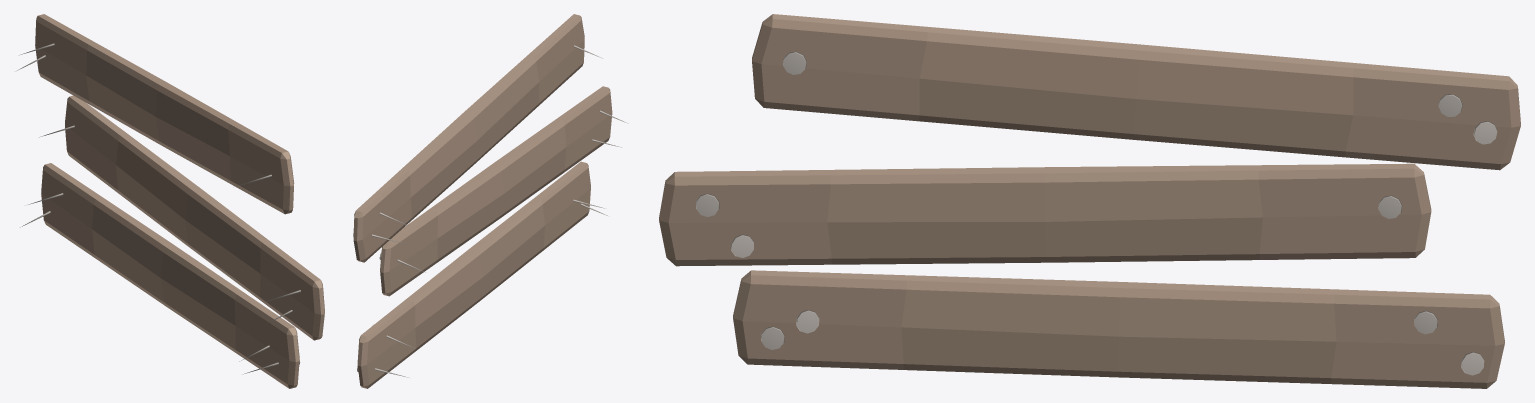
The model's file is boardedWindow.fbx.
3 renders of one model, left to right at view 1: azimuth 30°, elevation 25°; view 2: azimuth 150°, elevation 25°; view 3: azimuth 270°, elevation 25°, orthographic. The views are drawn at different scales.
Visible parts, largest first — view 1: woodPlank3, woodPlank4, woodPlank2; view 2: woodPlank2, woodPlank4, woodPlank3; view 3: woodPlank3, woodPlank2, woodPlank4.
Boxes of the visible parts, x1,y1,x2,y2 form: woodPlank3: (65, 95, 324, 340); woodPlank4: (41, 163, 299, 388); woodPlank2: (35, 14, 294, 214); woodPlank2: (353, 14, 584, 262); woodPlank4: (357, 161, 590, 388); woodPlank3: (380, 86, 612, 296); woodPlank3: (659, 163, 1431, 266); woodPlank2: (752, 14, 1520, 170); woodPlank4: (733, 270, 1504, 388).
Bounding box in the file's own units: 0.7731 × 3.12 × 6.59.
